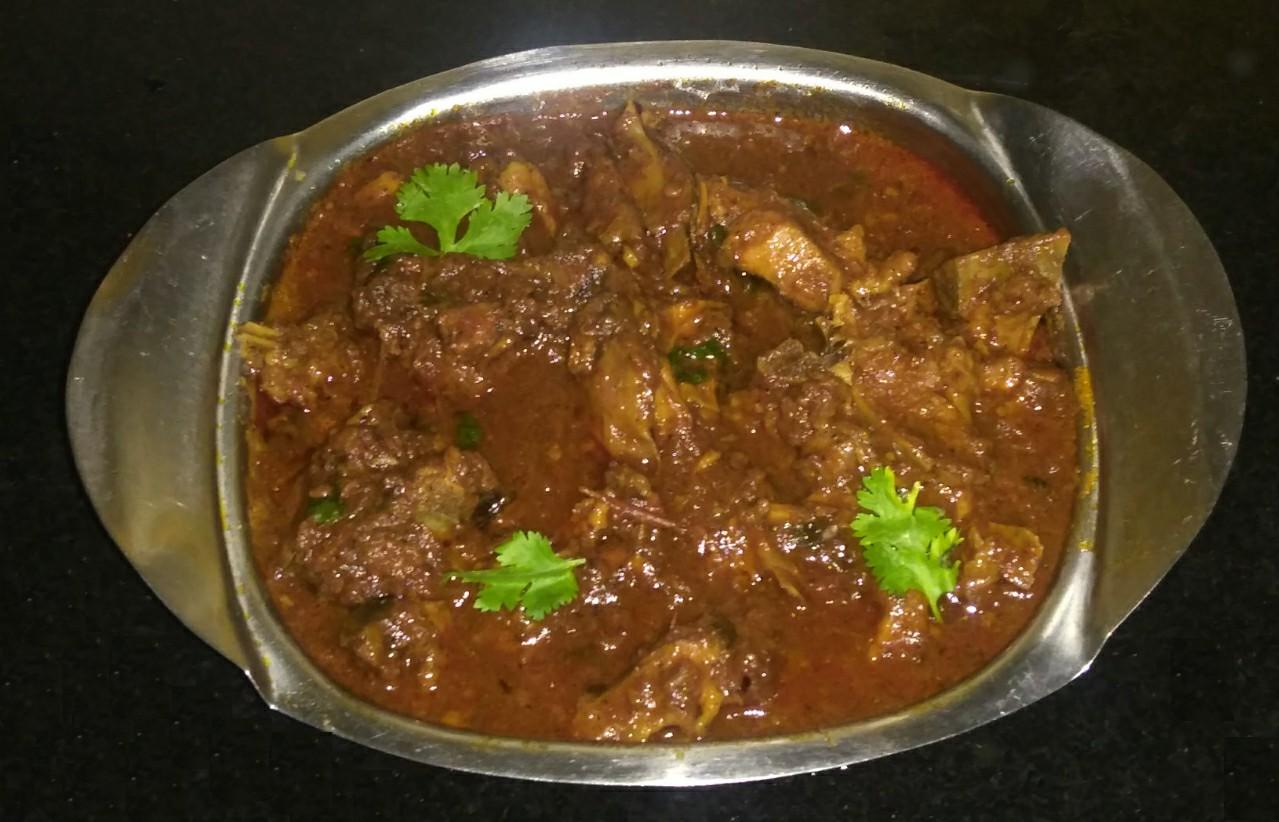MuttonCurry: (237, 100, 1070, 737)
